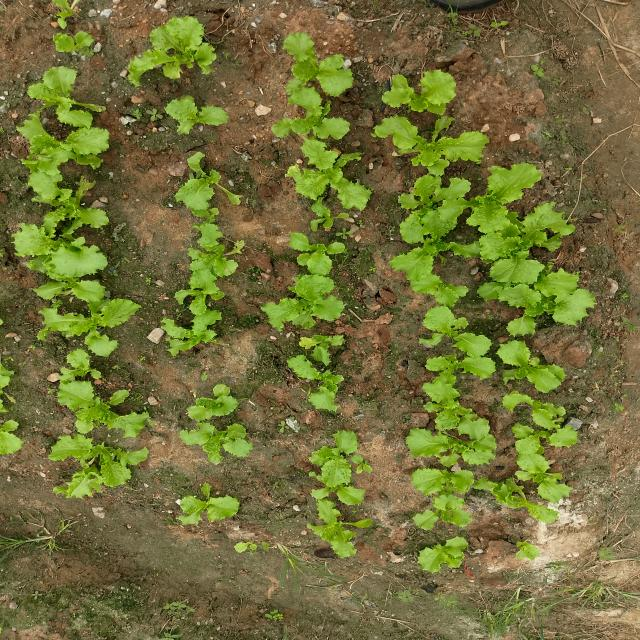Lettuce: (17, 110, 104, 208), (380, 107, 486, 176), (486, 272, 594, 338), (263, 32, 347, 115), (46, 369, 152, 434), (477, 198, 578, 261), (46, 435, 145, 497), (169, 156, 262, 220), (16, 220, 112, 282), (292, 136, 372, 209), (45, 290, 121, 362), (396, 185, 484, 246), (269, 277, 367, 330), (298, 486, 370, 558), (119, 23, 222, 73), (148, 298, 220, 368), (409, 410, 492, 469), (397, 250, 479, 308), (498, 397, 583, 452), (491, 458, 565, 519), (175, 411, 254, 468), (423, 332, 492, 396), (307, 420, 369, 490), (491, 338, 567, 390), (160, 86, 230, 140), (375, 68, 451, 114), (182, 229, 240, 289), (167, 481, 242, 527), (41, 21, 107, 71), (404, 487, 472, 532), (488, 152, 544, 204), (297, 364, 348, 414), (411, 537, 465, 577), (0, 413, 25, 460), (508, 540, 547, 562)
